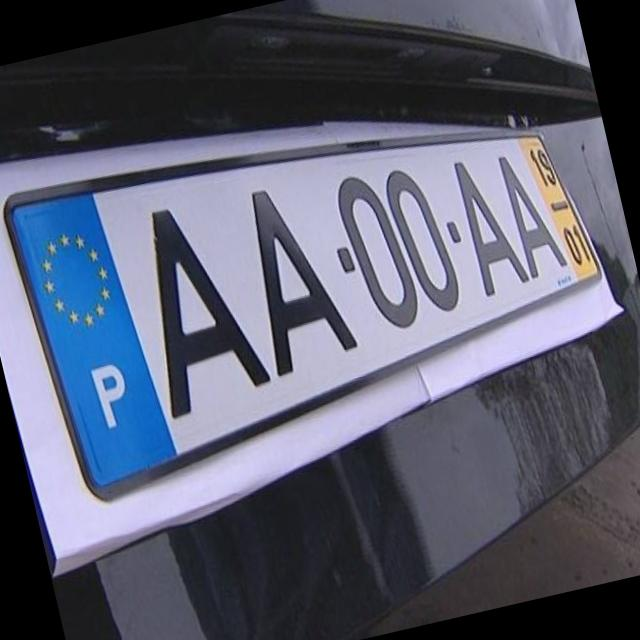portuguese-license-plates: (0, 122, 621, 520)
